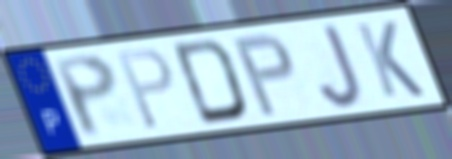D: (169, 36, 251, 128)
J: (316, 21, 365, 111)
K: (352, 18, 429, 100)
P: (48, 50, 122, 140), (230, 31, 298, 120), (114, 45, 178, 134)
